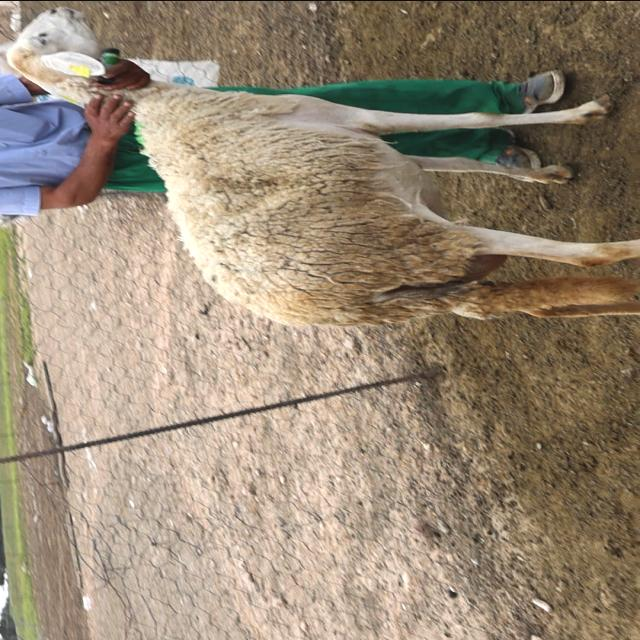Score_2: (7, 6, 639, 326)
